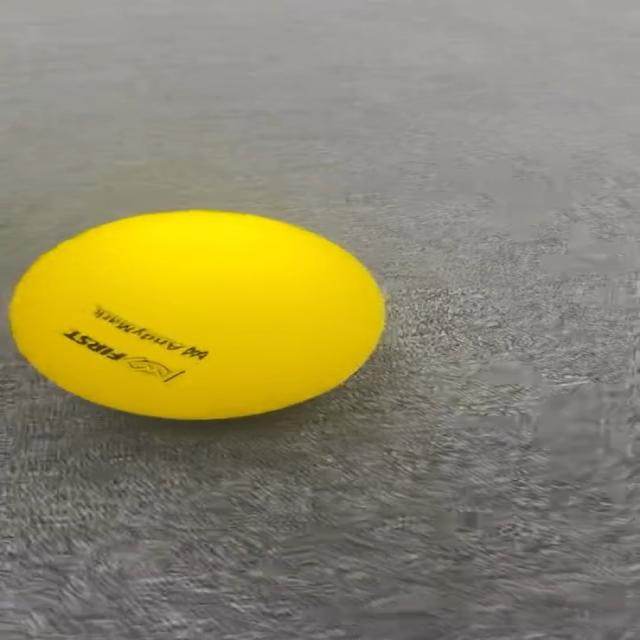Fuels: (10, 212, 386, 417)
